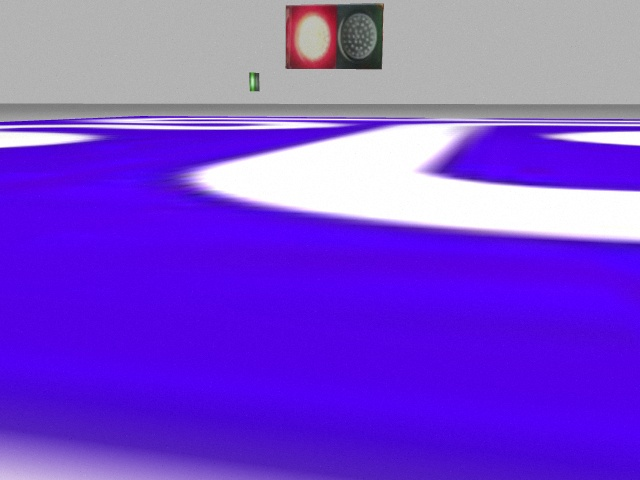red: (287, 5, 338, 68)
